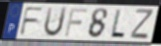8: (88, 7, 109, 39)
F: (18, 7, 46, 37), (63, 8, 89, 38)
L: (109, 9, 127, 40)
U: (43, 6, 68, 39)
Z: (129, 8, 155, 41)
